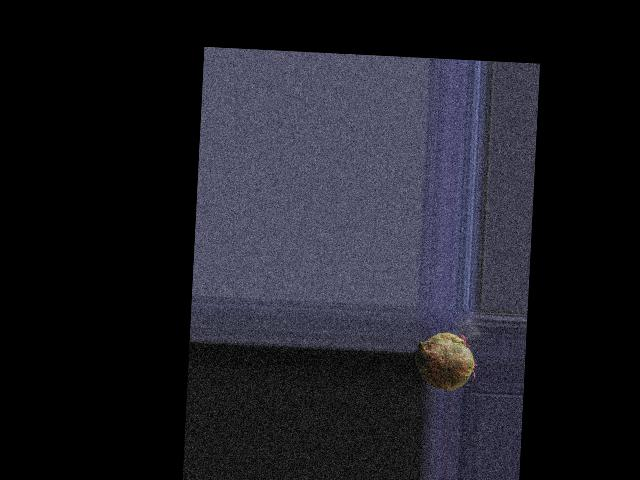beet: (413, 330, 478, 391)
